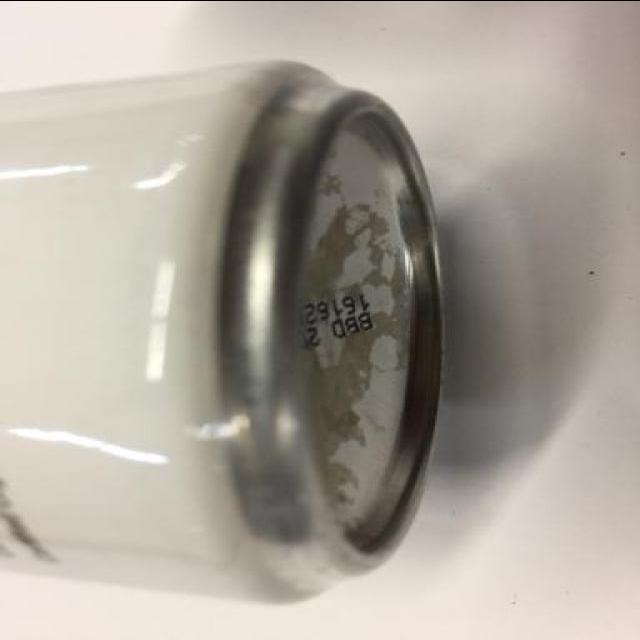can: (0, 60, 450, 606)
